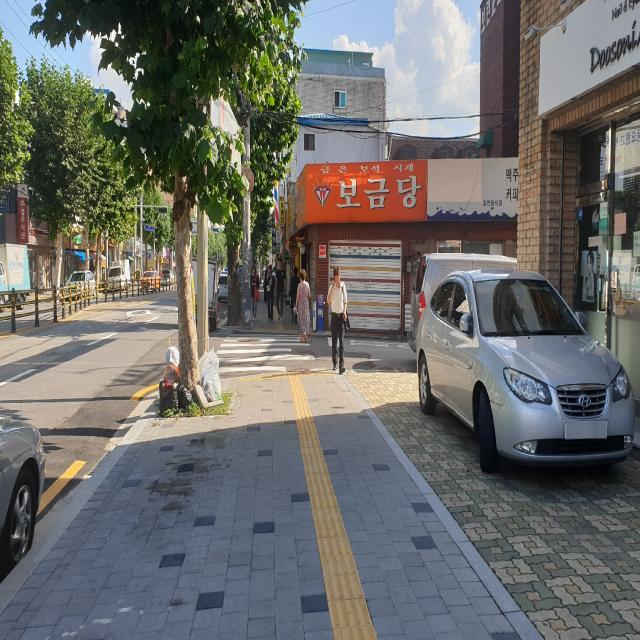횡단보도: (215, 333, 316, 372)
